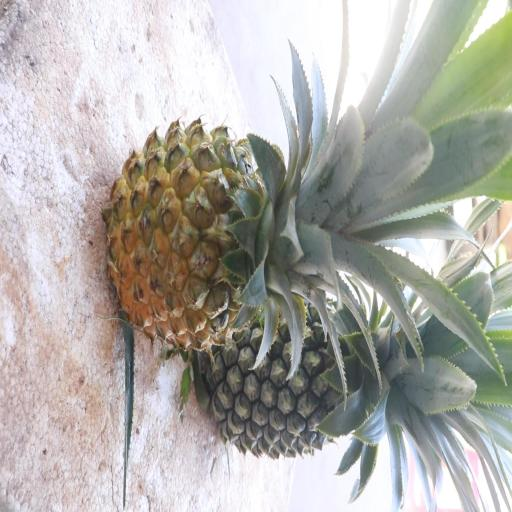Pineapple - v8 v1: (102, 111, 405, 357)
